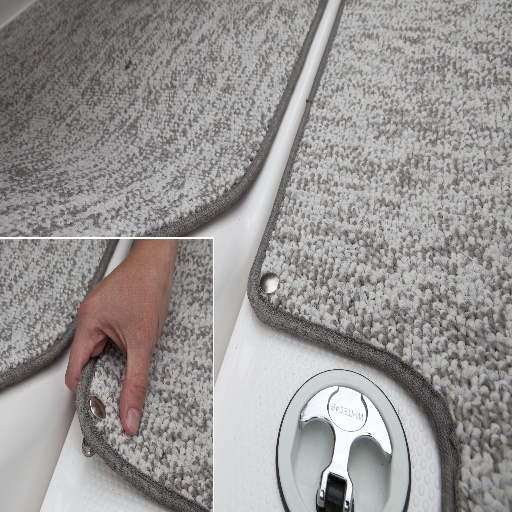hand: (61, 236, 193, 444)
